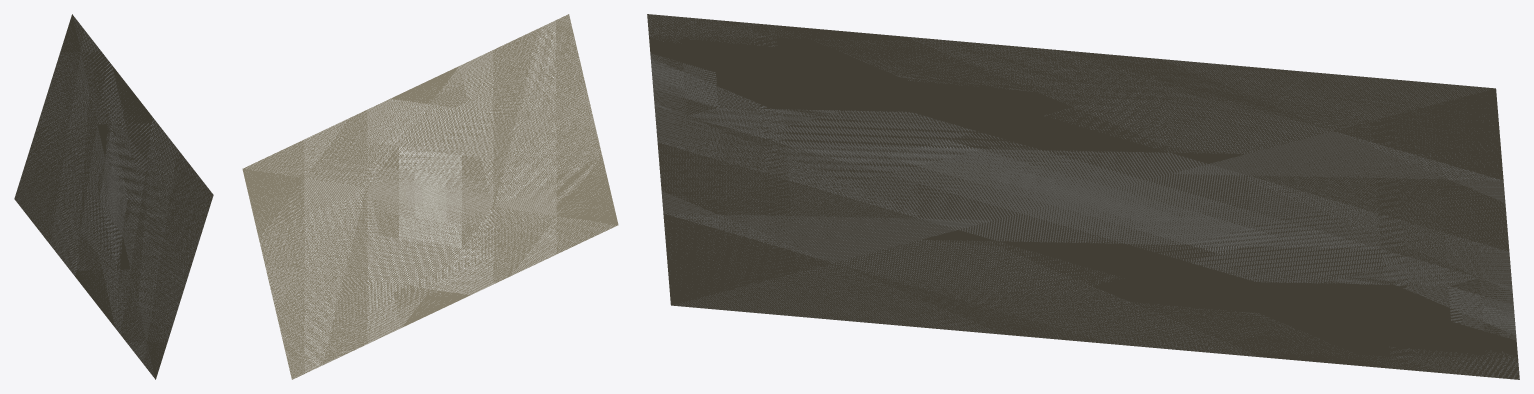
Rendered from 大本钟66.dae.
3 views of the same model, side by side, from view 1: azimuth 30°, elevation 25°; view 2: azimuth 150°, elevation 25°; view 3: azimuth 270°, elevation 25° (orthographic). The views are drawn at different scales.
Parts seen in each view (by area): view 1: SketchUp; view 2: SketchUp; view 3: SketchUp.
Part boxes in pixels (<box>): SketchUp: <box>14,14,213,379</box>; SketchUp: <box>242,14,618,379</box>; SketchUp: <box>647,14,1519,379</box>.
Bounding box in the file's own units: 13.4 × 40.21 × 17.29.
2 materials, 1 textured.
